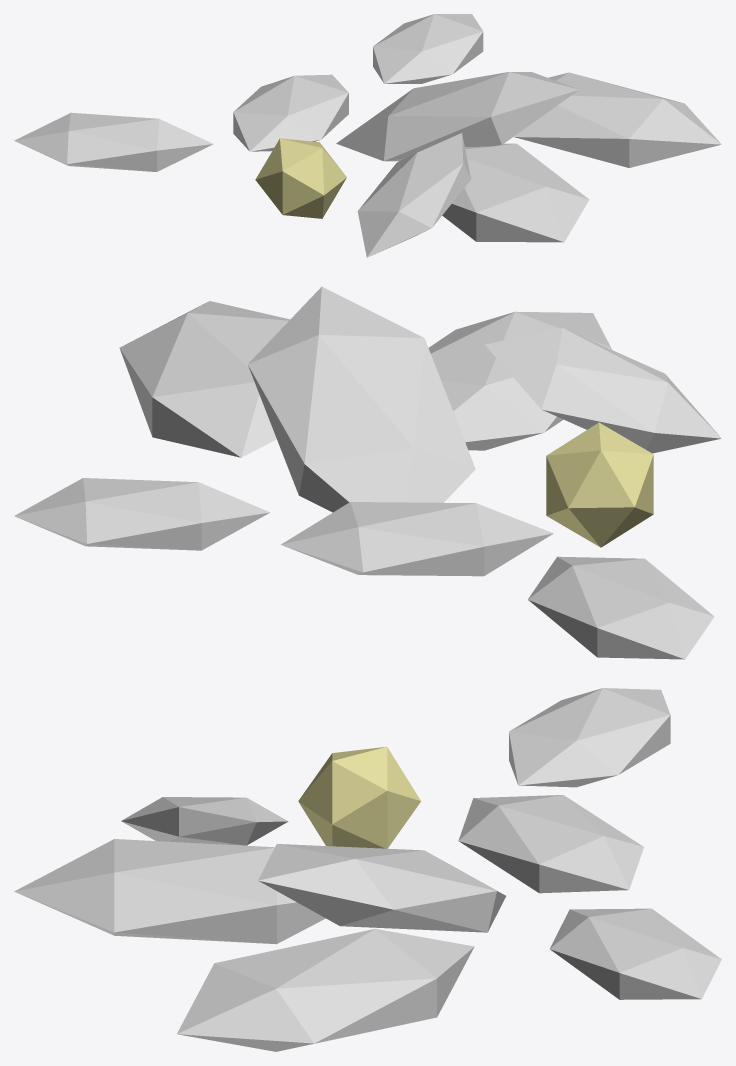
Rendered from Bell Flower Petals.fbx.
3 renders of one model, top to bottom at view 1: azimuth 30°, elevation 25°; view 2: azimuth 150°, elevation 25°; view 3: azimuth 270°, elevation 25°, orthographic. The views are drawn at different scales.
Parts seen in each view (by area): view 1: bell_flower_item1; view 2: bell_flower_item1; view 3: bell_flower_item1.
Part boxes in pixels (x1,y1,x2,y2): bell_flower_item1: (14,14,721,257); bell_flower_item1: (14,286,721,659); bell_flower_item1: (14,688,721,1051).
Size of the model in its own units: 0.2693 by 0.0445 by 0.2278.
